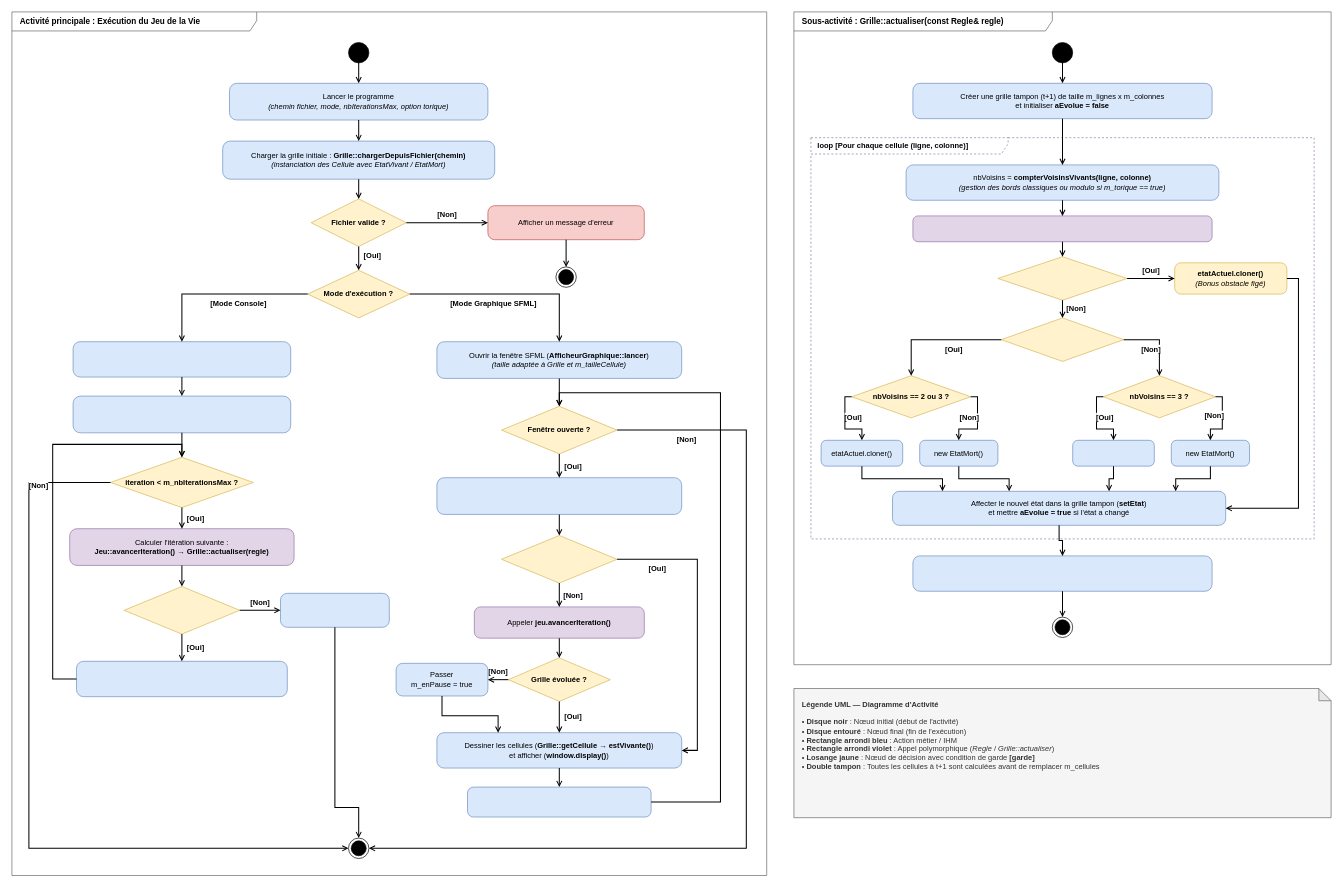
Image size: 1343x887. Some labels were removed from this diagram. Each missing label, with the box of its shape:
Appeler regle.calculerProchainEtat(etatActuel, nbVoisins): (912, 215, 1212, 242)
Arrêter (automate stabilisé): (280, 593, 389, 627)
Attendre m_delaiMs ms ( sf::sleep ): (467, 786, 651, 817)
Créer le dossier <nom_fichier>_out et initialiser iteration = 0: (72, 341, 291, 377)
etatActuel.estObstacle() ?: (997, 256, 1127, 300)
etatActuel.estVivante() ?: (1001, 317, 1124, 361)
Incrémenter iteration et sauvegarder iteration_<t>.txt: (76, 661, 287, 697)
La grille a évolué ?: (123, 586, 240, 634)
Lire événements SFML (Fermer, Pause [Espace], Vitesse [Haut/Bas], Bonus motifs): (436, 477, 682, 514)
m_enPause == true ?: (501, 535, 617, 583)
new EtatVivant(): (1072, 440, 1154, 466)
Remplacer m_cellules par la grille tampon (t+1) et retourner aEvolue: (912, 555, 1212, 591)
Sauvegarder l'état initial : Grille::sauvegarderDansFichier("iteration_0.txt"): (72, 395, 291, 433)
